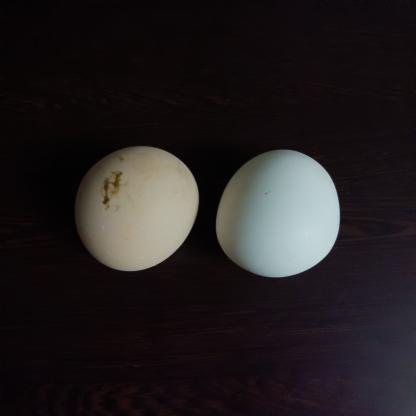egg: (212, 140, 352, 282), (80, 136, 194, 282)
